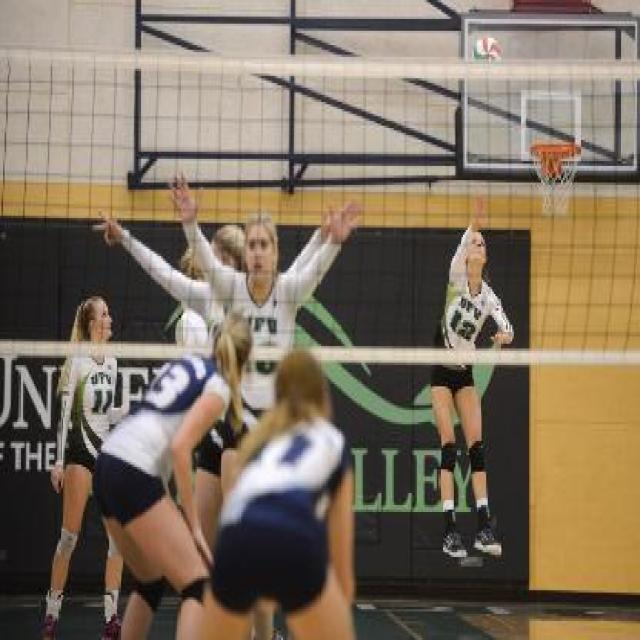volleyball: (472, 37, 504, 60)
